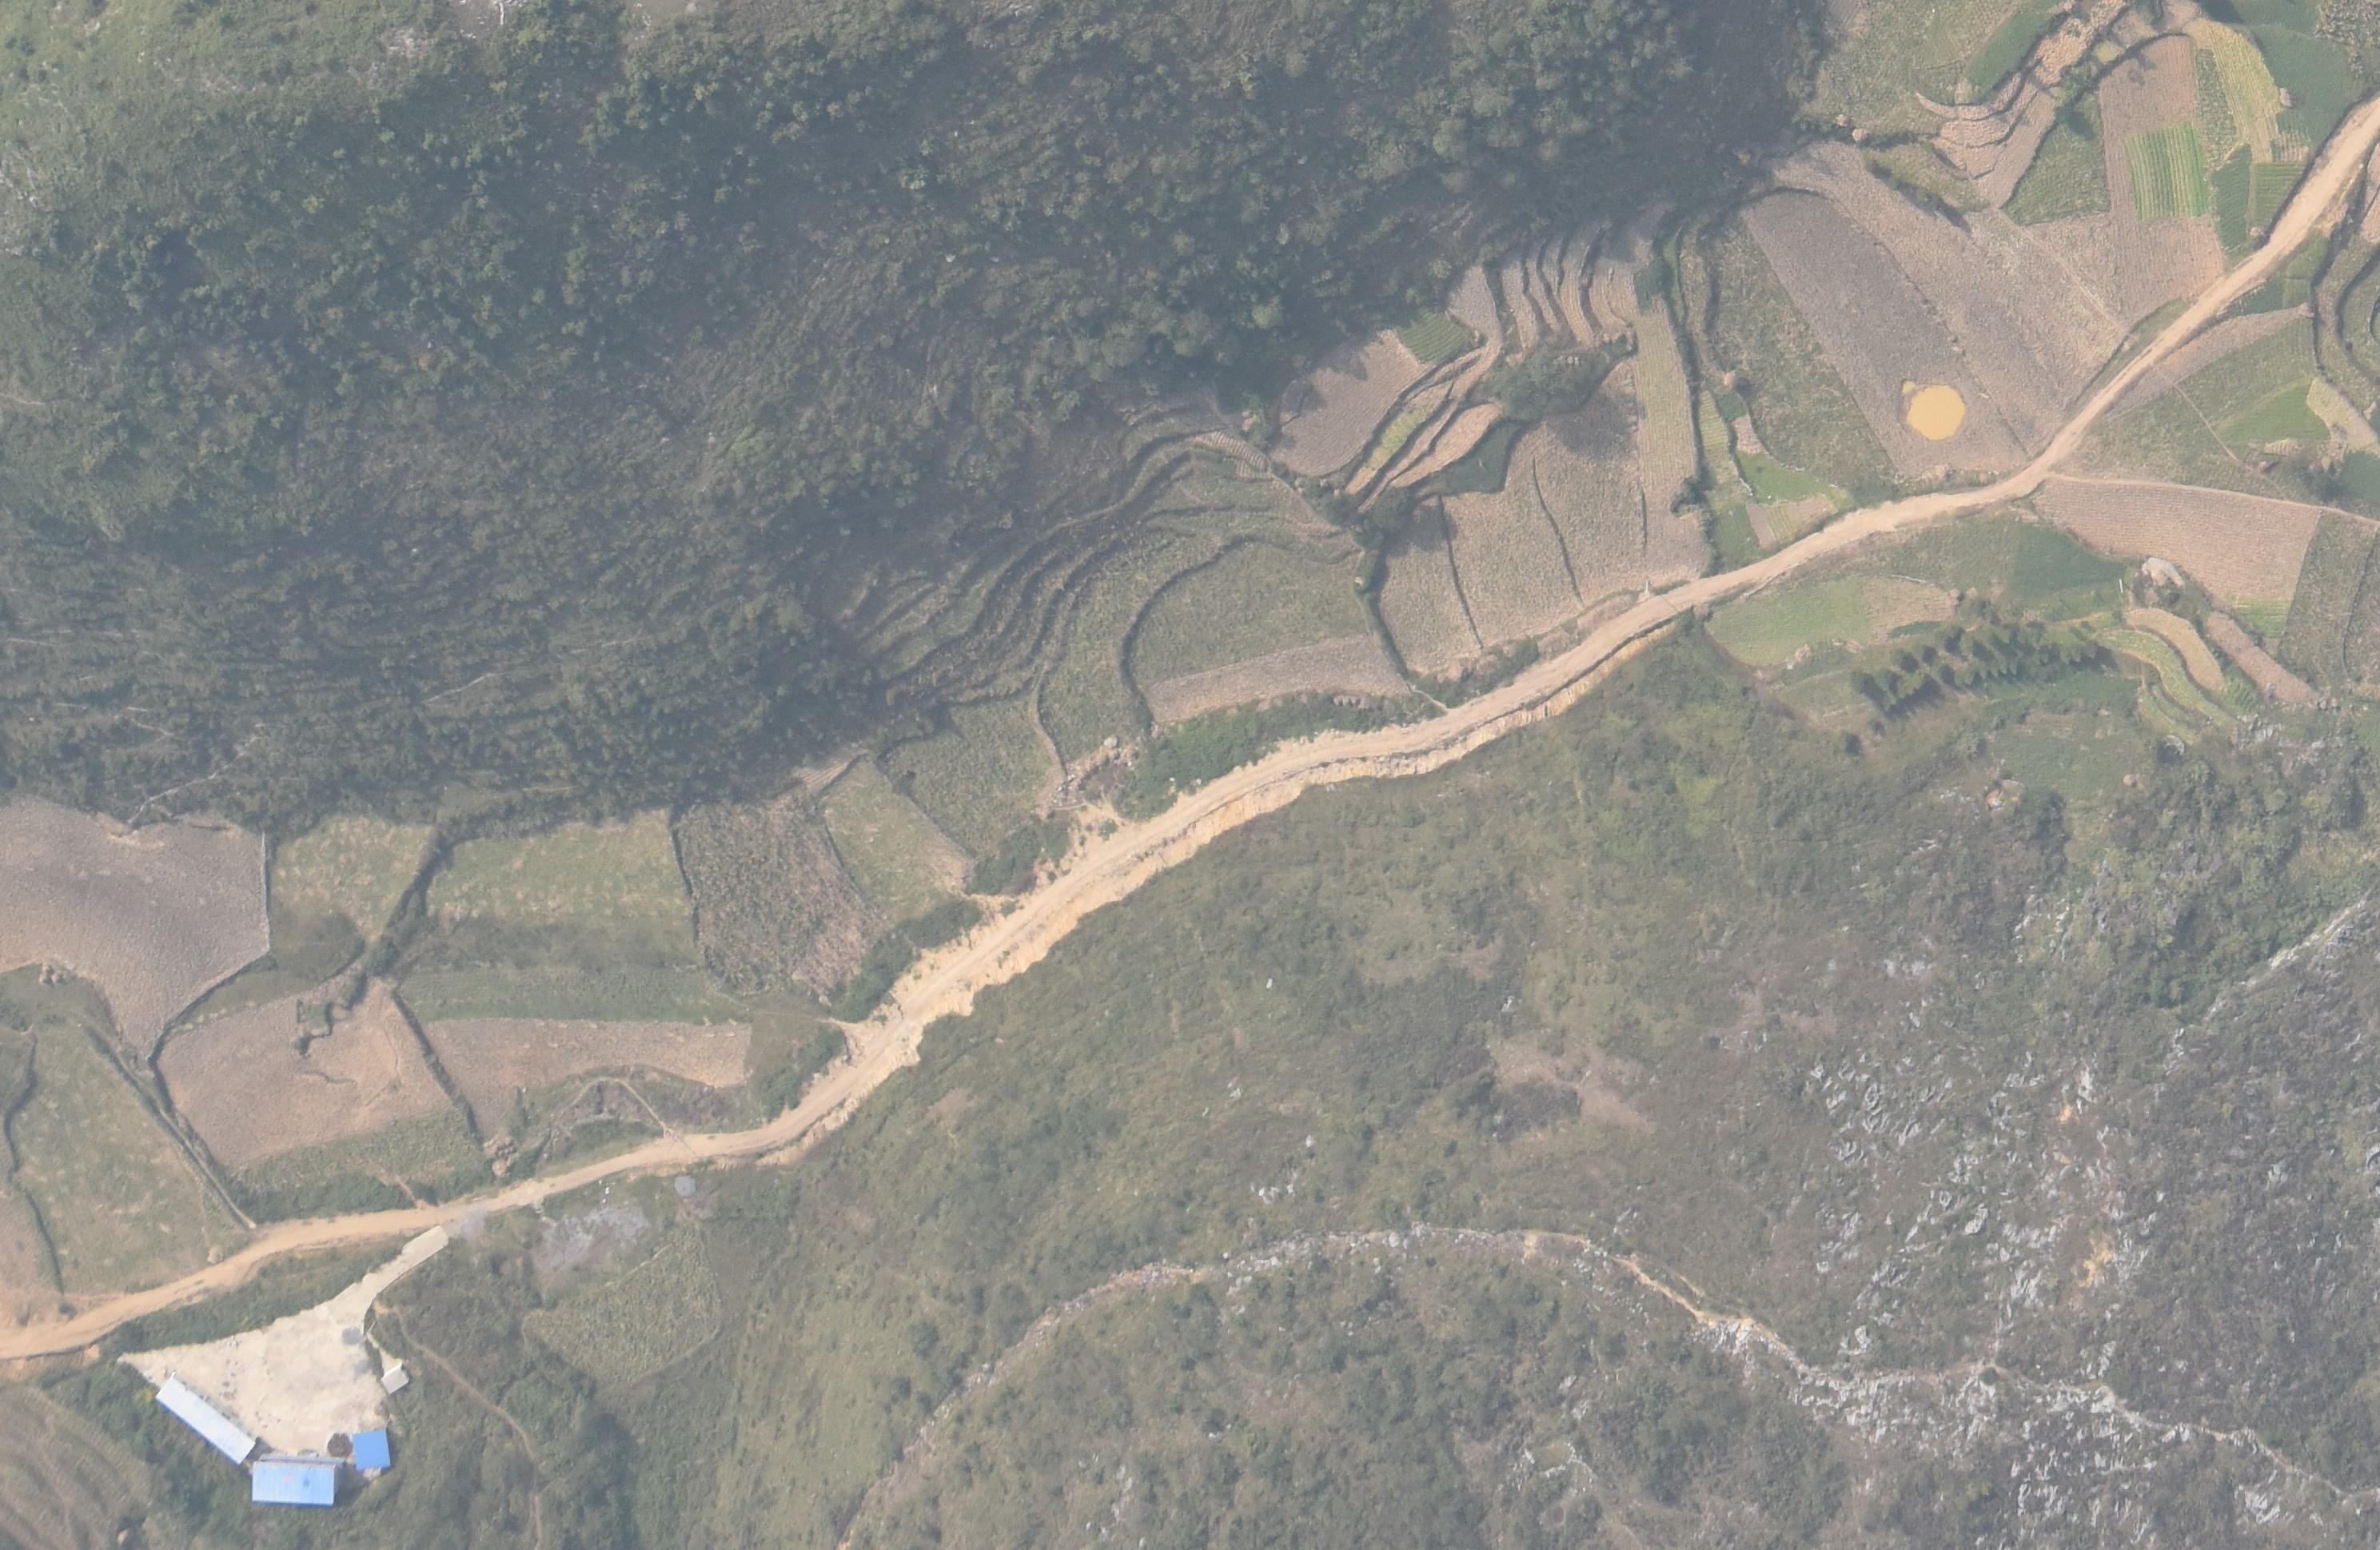pool: (1902, 379, 1967, 441)
prefabricated-house: (154, 1377, 256, 1465), (251, 1461, 339, 1504), (353, 1430, 391, 1469)
